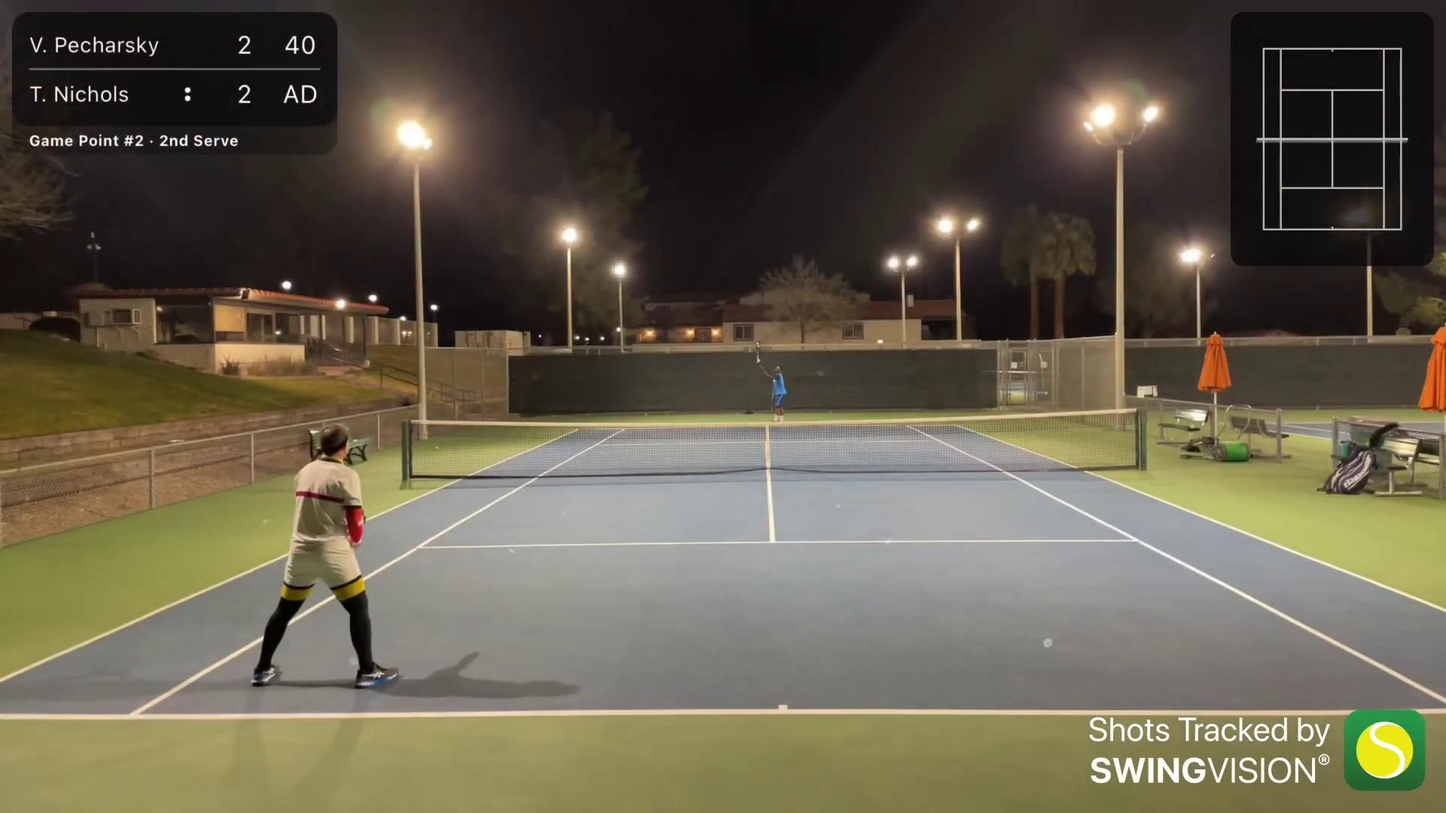ball: (754, 341, 761, 348)
